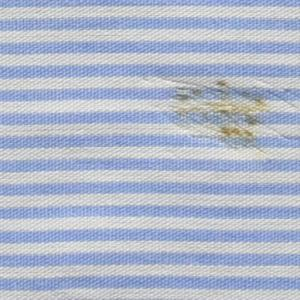Damage: (139, 71, 300, 158)
Oil Stain: (172, 76, 271, 152)
